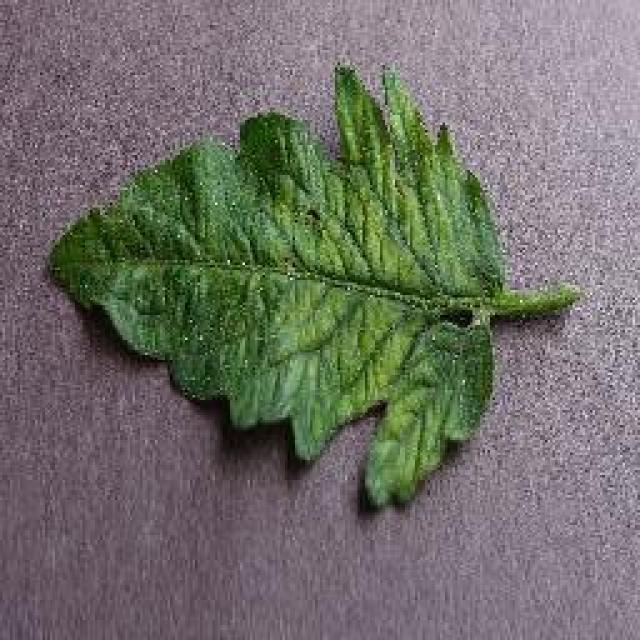Tomato spider mites leaf: (45, 64, 507, 506)
